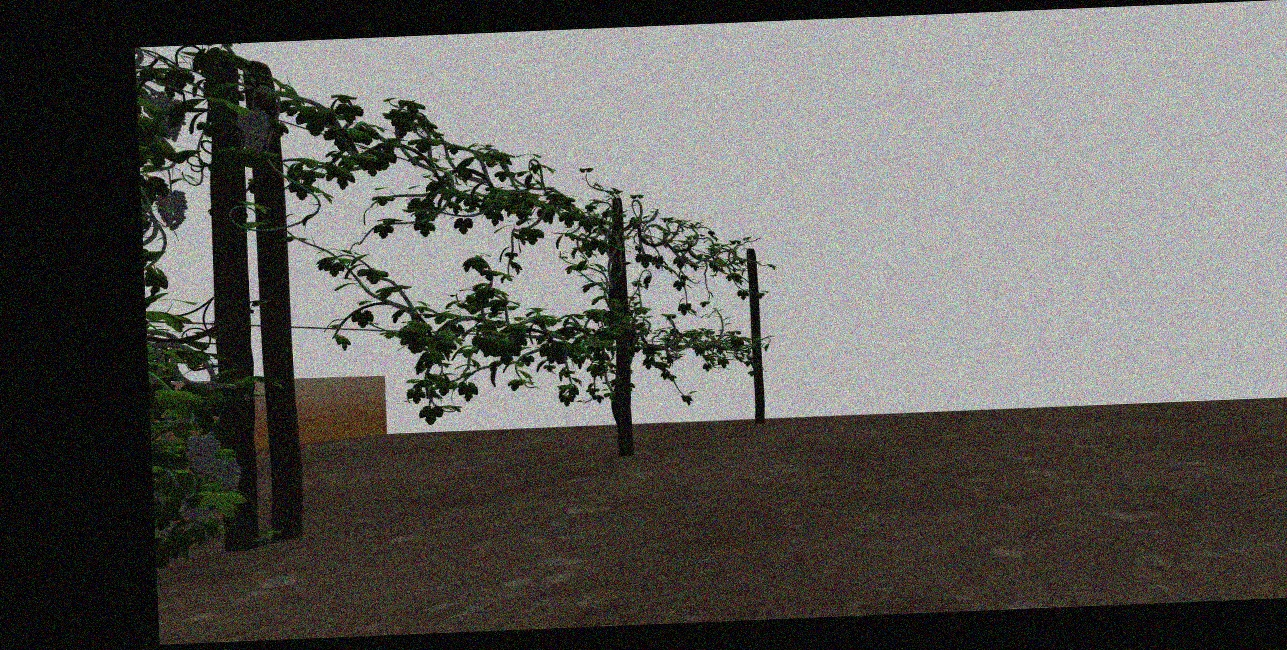grape: (236, 108, 271, 153), (185, 430, 219, 476), (154, 188, 188, 230), (210, 458, 243, 493)
